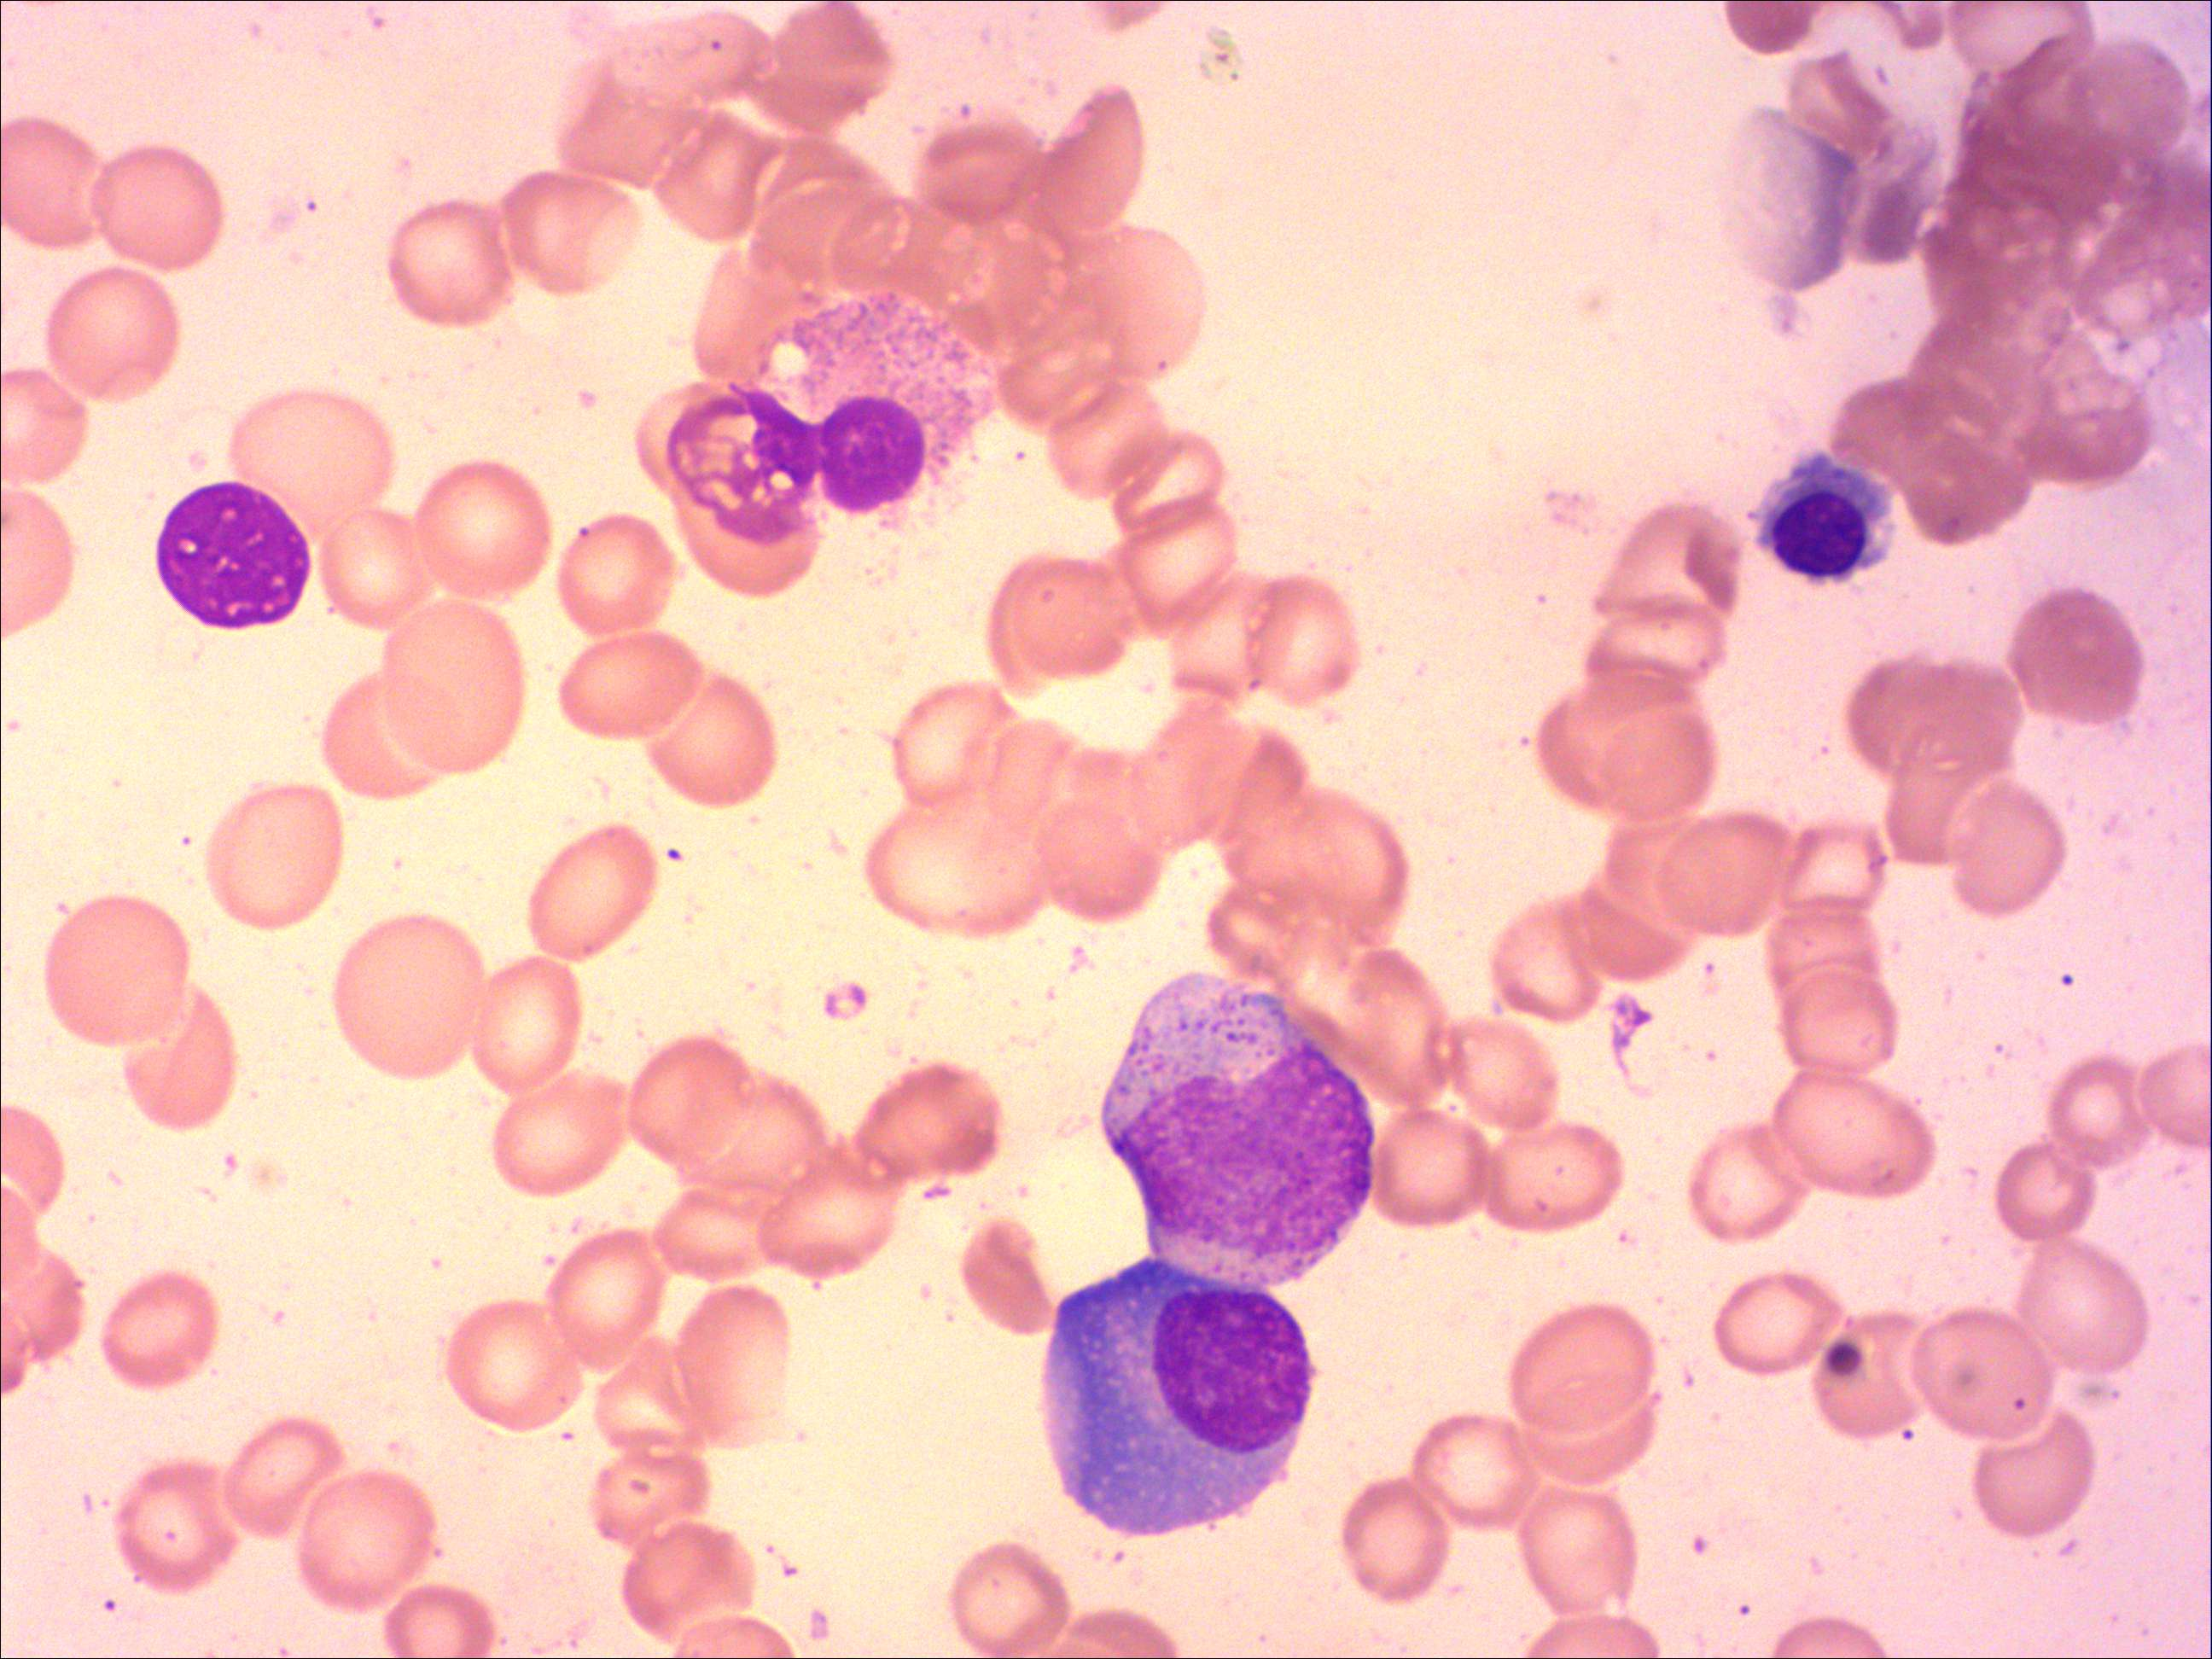23: (1740, 450, 1897, 591)
3: (1096, 967, 1379, 1297)
51: (1036, 1251, 1320, 1542)
x: (662, 291, 1007, 554), (150, 477, 315, 638)
